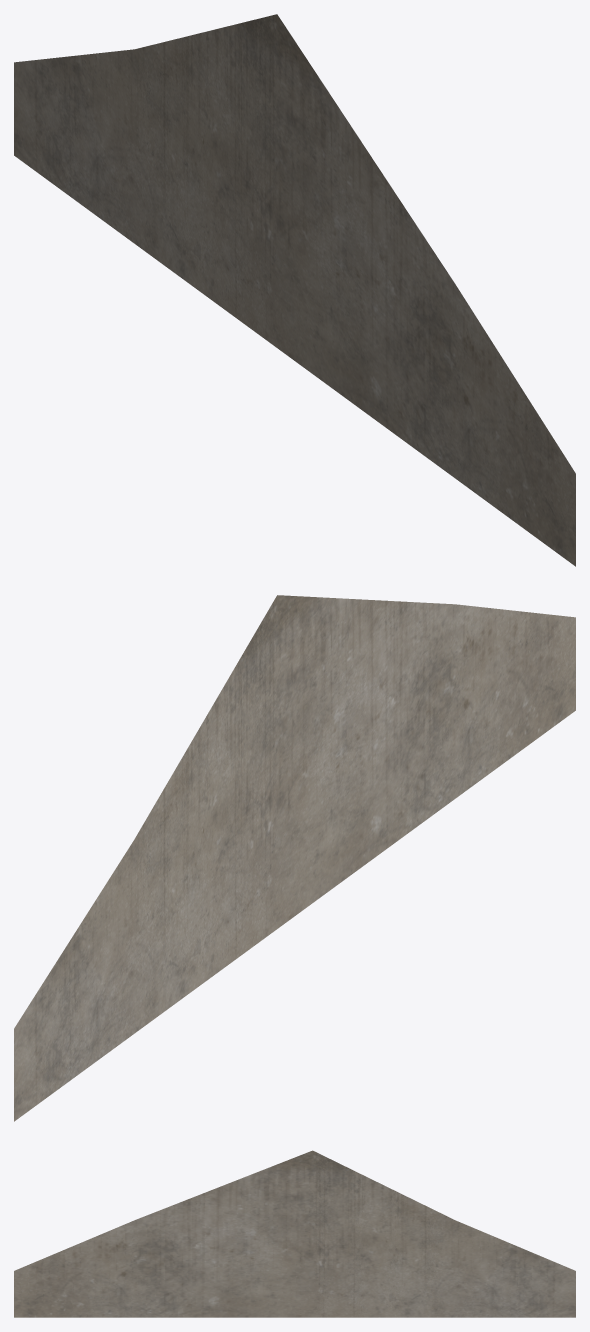
File: SM_R_MiddleBeam_16.fbx
The picture shows the model from 3 angles, top to bottom: view 1: azimuth 30°, elevation 25°; view 2: azimuth 150°, elevation 25°; view 3: azimuth 270°, elevation 25°; orthographic projection. The views are drawn at different scales.
Visible parts, largest first — view 1: SM_R_MiddleBeam_16; view 2: SM_R_MiddleBeam_16; view 3: SM_R_MiddleBeam_16.
Boxes of the visible parts, x1,y1,x2,y2 form: SM_R_MiddleBeam_16: (14, 14, 575, 566); SM_R_MiddleBeam_16: (14, 595, 575, 1121); SM_R_MiddleBeam_16: (14, 1150, 575, 1317).
Size of the model in its own units: 0.000183 by 635 by 208.
1 material, 1 textured.
